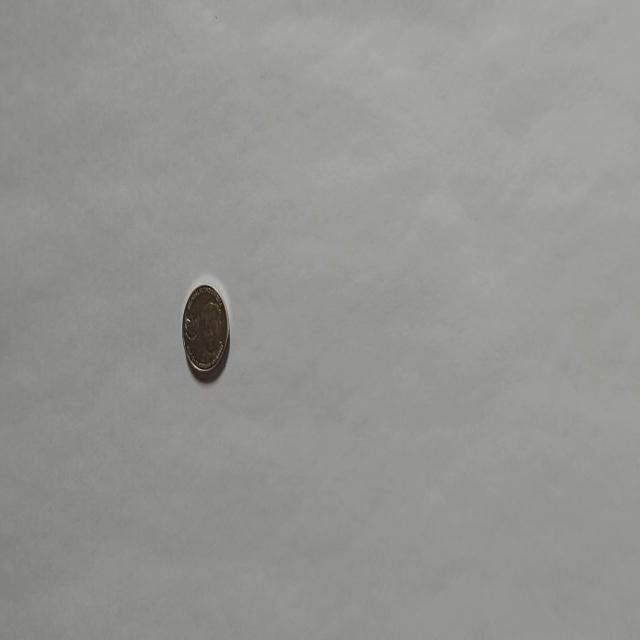seratus rupiah: (181, 282, 229, 376)
